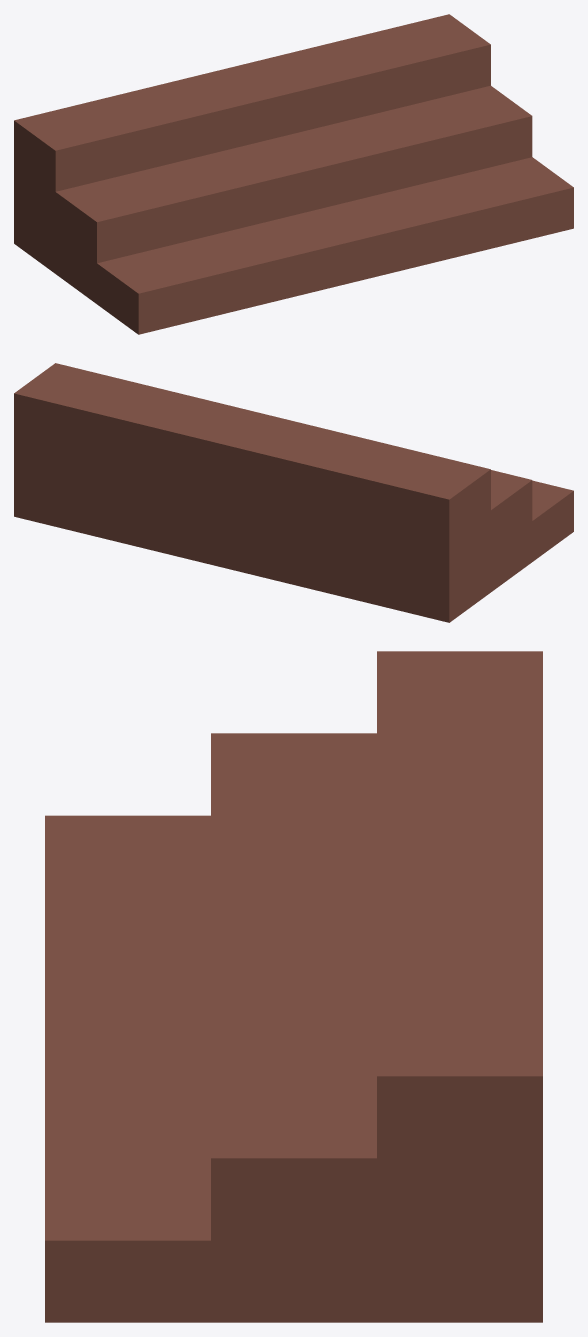
The model's file is Stairs_017.glb.
3 views of the same model, one above another, from view 1: azimuth 30°, elevation 25°; view 2: azimuth 150°, elevation 25°; view 3: azimuth 270°, elevation 25° (orthographic). The views are drawn at different scales.
Parts seen in each view (by area): view 1: Stairs_017; view 2: Stairs_017; view 3: Stairs_017.
Boxes of the visible parts, x1,y1,x2,y2 form: Stairs_017: (14,14,573,334); Stairs_017: (14,363,573,622); Stairs_017: (45,651,542,1322).
Bounding box in the file's own units: 1.62 × 0.4382 × 0.8027.
Materials: 1 (1 with a texture image).
